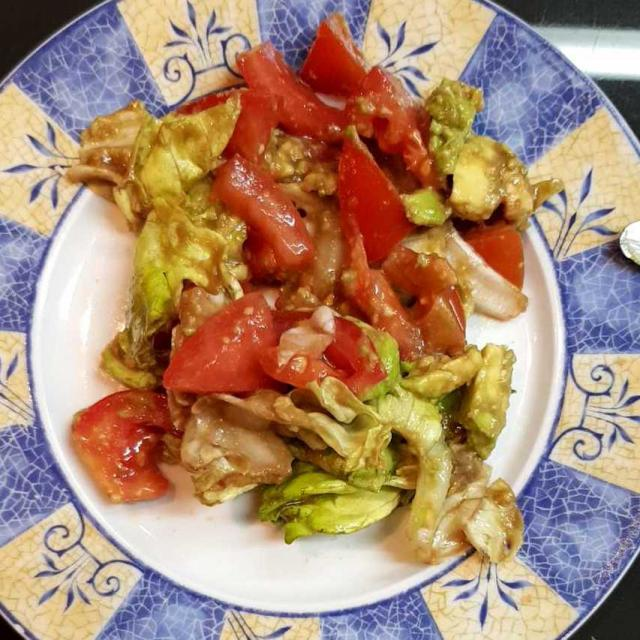avocado: (391, 86, 535, 224)
salad-leaf-salad-green: (84, 96, 516, 556)
tomato-raw: (89, 25, 468, 512)
